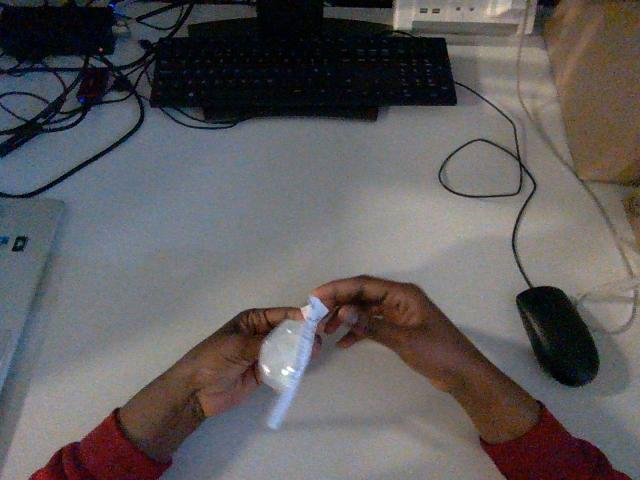syringe: (259, 296, 328, 428)
